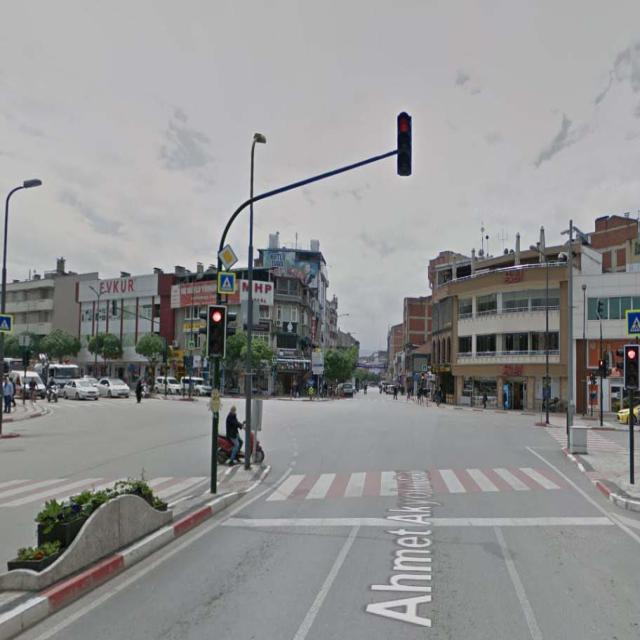kirmizi: (396, 113, 414, 173), (208, 305, 225, 358), (626, 346, 638, 382)
